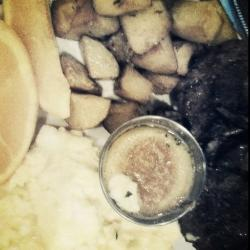fries: (53, 1, 218, 124)
